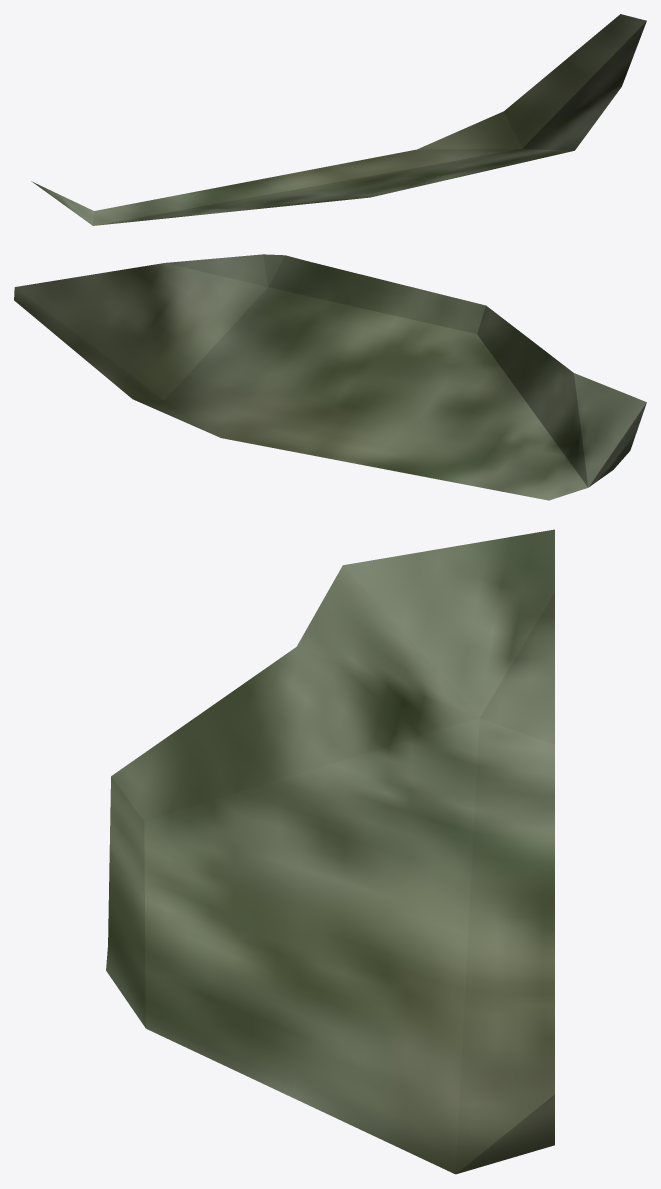
3 renders of one model, top to bottom at view 1: azimuth 30°, elevation 25°; view 2: azimuth 150°, elevation 25°; view 3: azimuth 270°, elevation 25°, orthographic. The views are drawn at different scales.
Size of the model in its own units: 0.691 by 0.0923 by 0.2169.
Materials: 1 (1 with a texture image).
